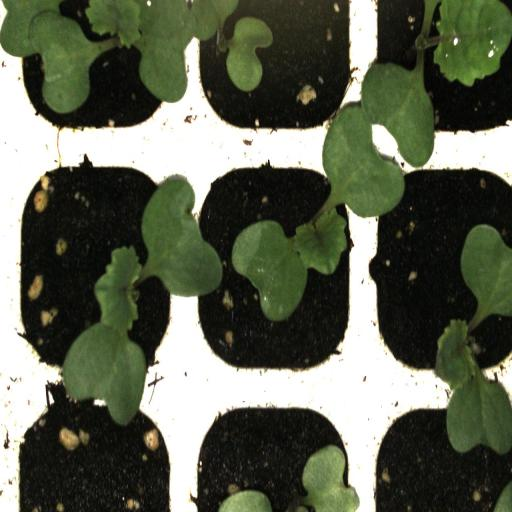seedling: (184, 139, 363, 385), (10, 138, 182, 382), (365, 142, 512, 386), (9, 0, 185, 133), (365, 0, 512, 140)
